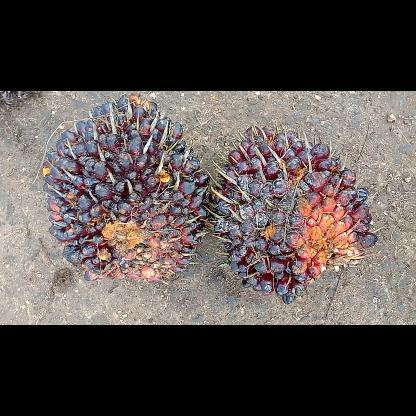Kurang masak: (40, 91, 211, 287), (209, 120, 380, 308)
